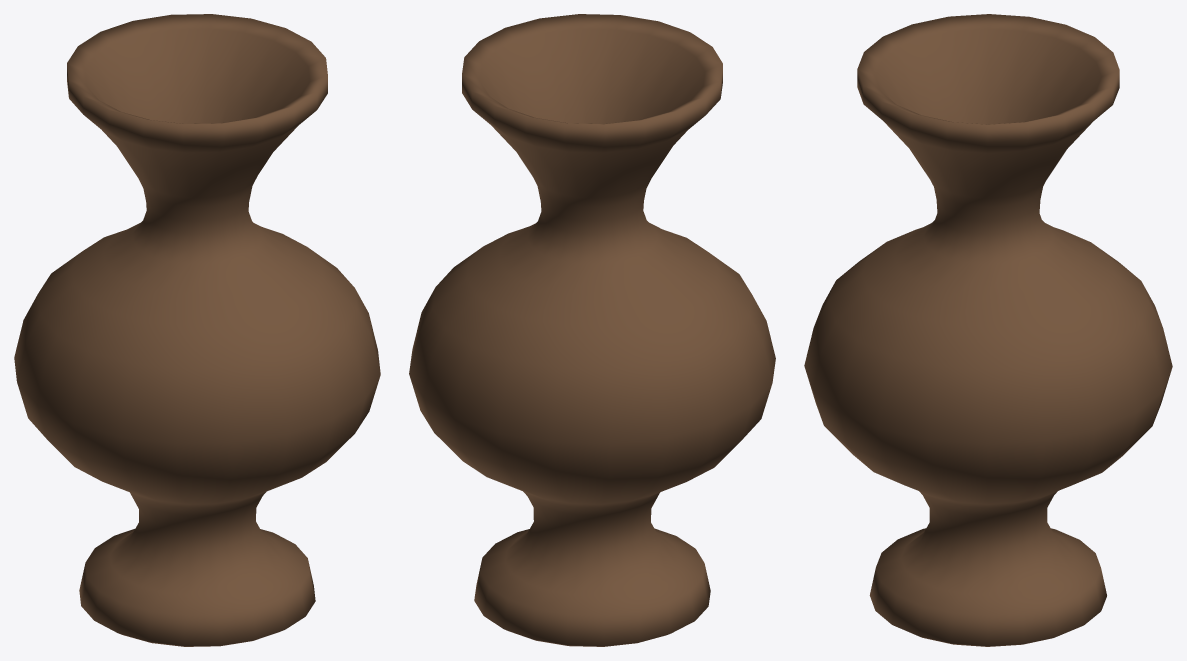
The model's file is Vase_3.fbx.
The picture shows the model from 3 angles, left to right: view 1: azimuth 30°, elevation 25°; view 2: azimuth 150°, elevation 25°; view 3: azimuth 270°, elevation 25°; orthographic projection.
Visible parts, largest first — view 1: Vase_3; view 2: Vase_3; view 3: Vase_3.
Boxes of the visible parts, left/top/right/bottom form: Vase_3: left=14, top=14, right=380, bottom=646; Vase_3: left=409, top=14, right=775, bottom=646; Vase_3: left=804, top=14, right=1172, bottom=646.
Bounding box in the file's own units: 54.13 × 85.99 × 54.13.
1 material, 1 textured.
